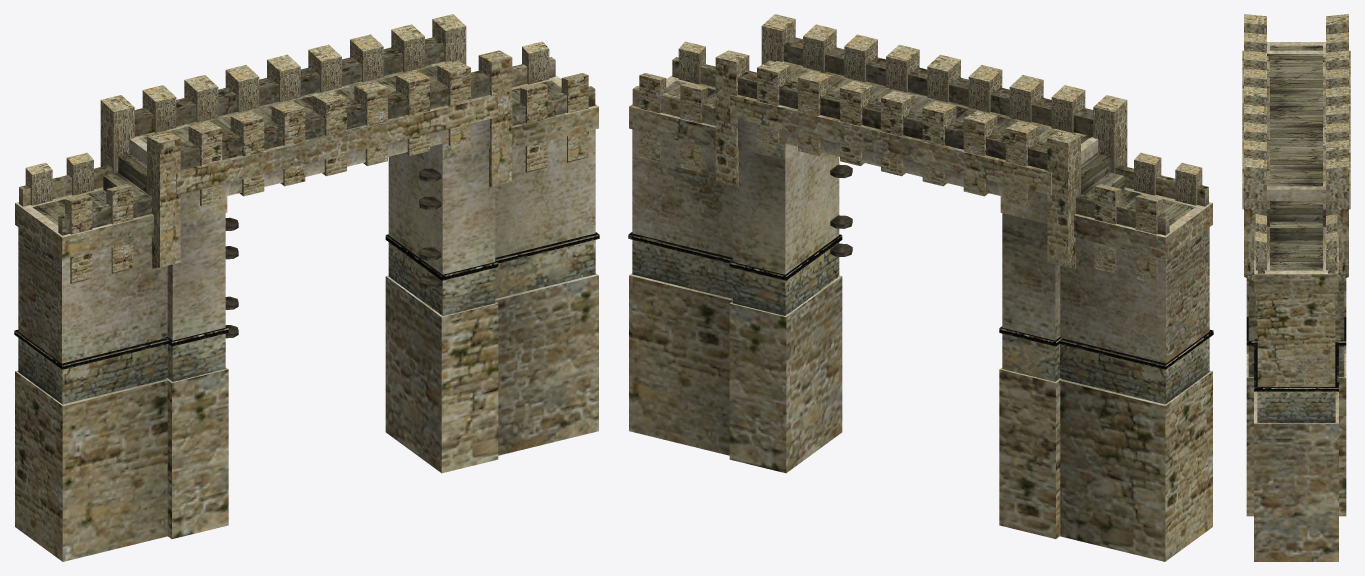
The model's file is gate.glb.
3 views of the same model, side by side, from view 1: azimuth 30°, elevation 25°; view 2: azimuth 150°, elevation 25°; view 3: azimuth 270°, elevation 25° (orthographic). The views are drawn at different scales.
Visible parts, largest first — view 1: gate_part0; view 2: gate_part0; view 3: gate_part0.
Part boxes in pixels (bbox=[...]): gate_part0: bbox=[14, 14, 599, 561]; gate_part0: bbox=[628, 14, 1213, 561]; gate_part0: bbox=[1242, 14, 1350, 561].
Size of the model in its own units: 3.8 by 2.71 by 0.746.
1 material, 1 textured.
